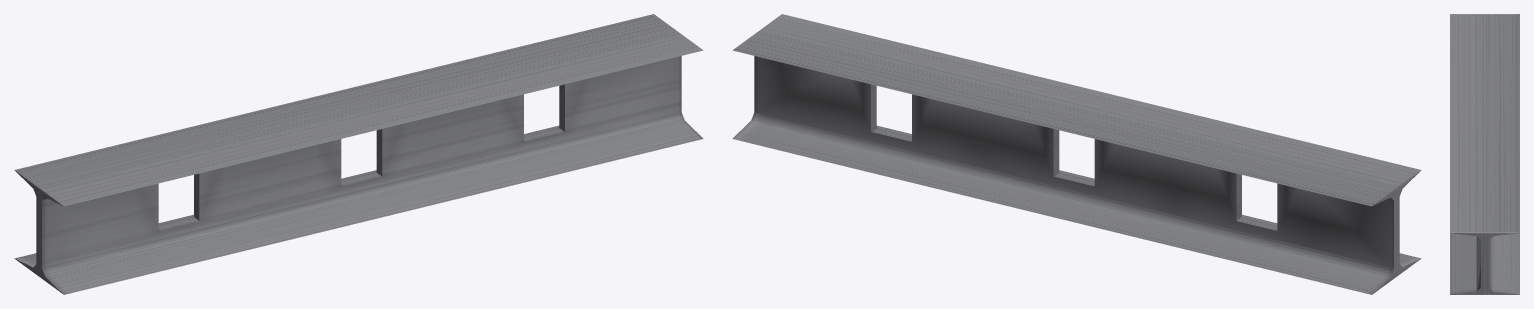
Rendered from beam.dae.
3 renders of one model, left to right at view 1: azimuth 30°, elevation 25°; view 2: azimuth 150°, elevation 25°; view 3: azimuth 270°, elevation 25°, orthographic. The views are drawn at different scales.
Visible parts, largest first — view 1: pCube1; view 2: pCube1; view 3: pCube1.
Boxes of the visible parts, x1,y1,x2,y2 form: pCube1: (14,14,703,294); pCube1: (732,14,1421,294); pCube1: (1450,14,1519,294).
Size of the model in its own units: 1.99 by 0.2681 by 0.2624.
Materials: 1 (1 with a texture image).
